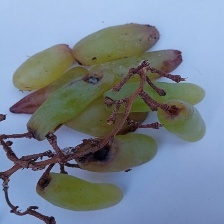grapes: (47, 57, 220, 206)
